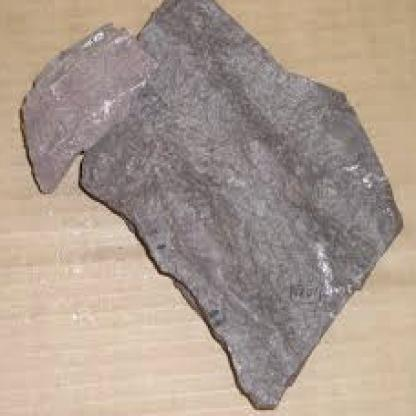Metamorphic_Quartize: (75, 0, 407, 414), (18, 14, 159, 200)
